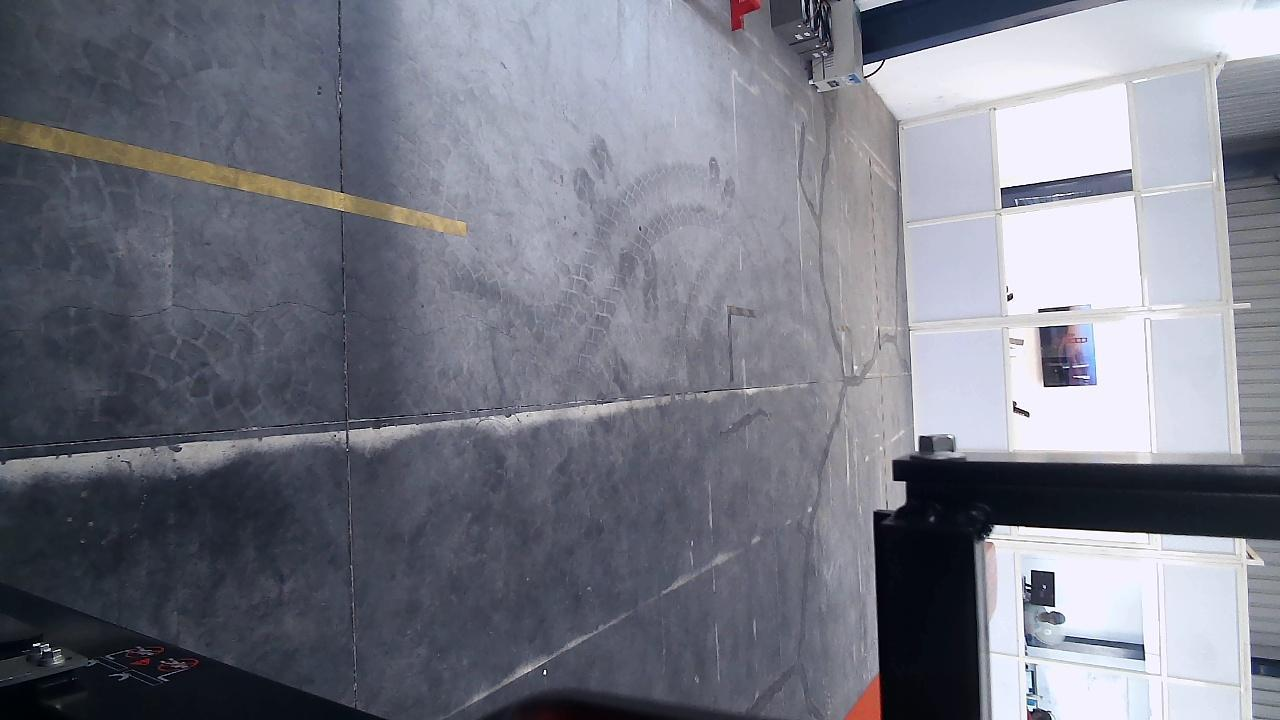yellow_line: (0, 116, 469, 237)
